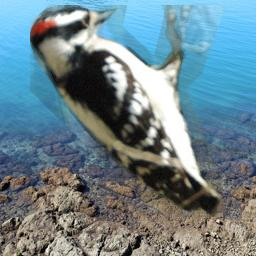Woodpecker: (30, 5, 223, 217)
